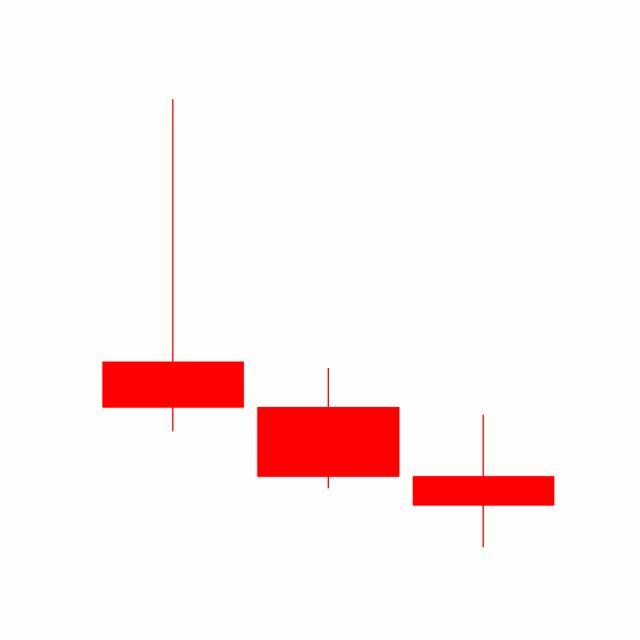Spinning Top: (406, 413, 562, 550)
